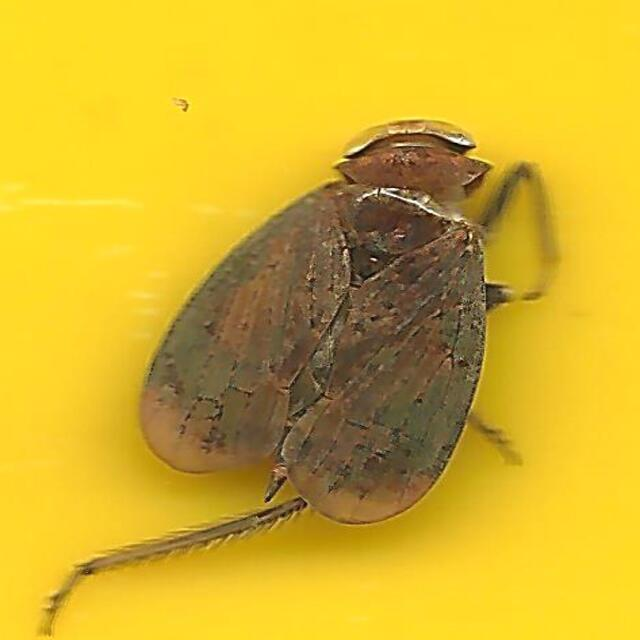Hemiptera: (135, 113, 505, 527)
